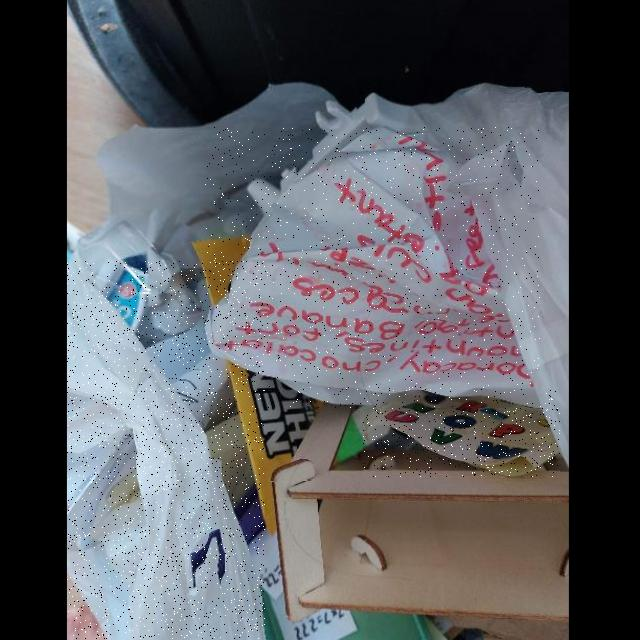paper: (206, 127, 540, 408), (364, 390, 560, 477)
plastic: (68, 261, 265, 640)
